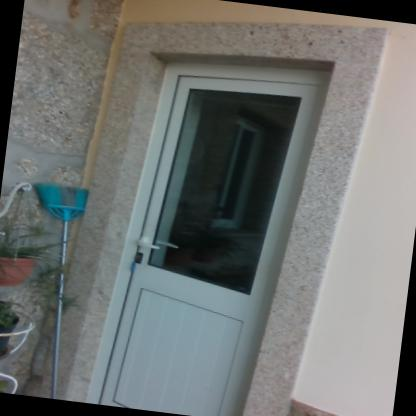closed: (77, 37, 343, 415)
